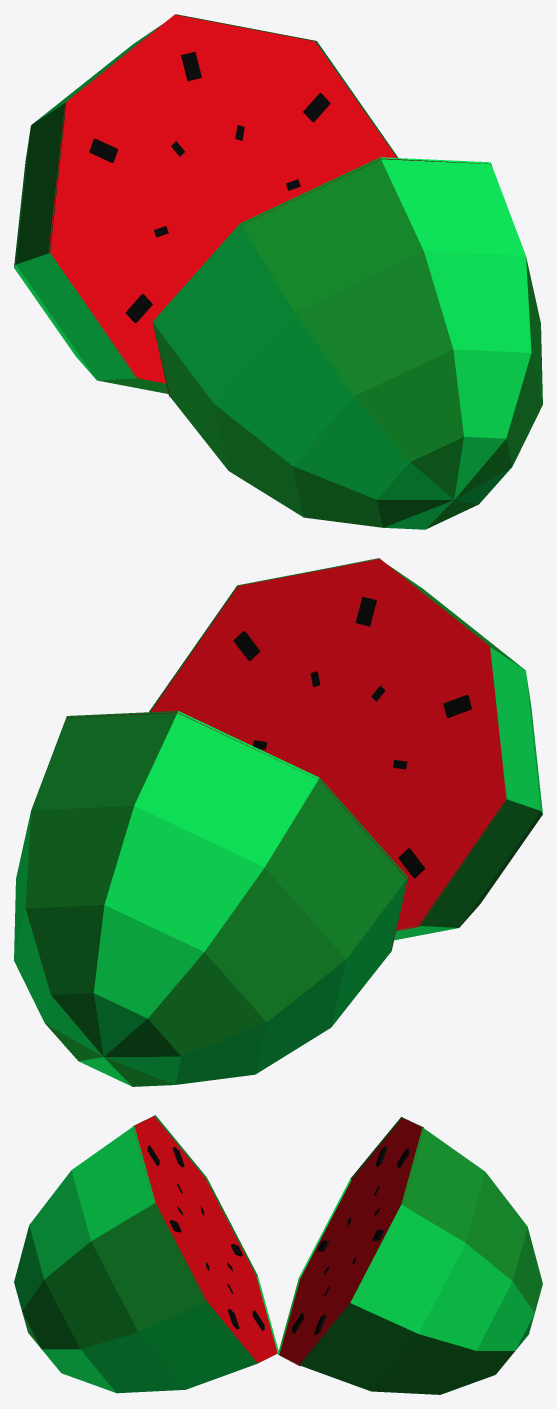
File: Watermelon_cut.glb
3 renders of one model, top to bottom at view 1: azimuth 30°, elevation 25°; view 2: azimuth 150°, elevation 25°; view 3: azimuth 270°, elevation 25°, orthographic. The views are drawn at different scales.
Visible parts, largest first — view 1: Cube.001, Cube; view 2: Cube, Cube.001; view 3: Cube, Cube.001.
Part boxes in pixels (x1,y1,x2,y2): Cube.001: [152, 157, 542, 529]; Cube: [14, 14, 398, 393]; Cube: [14, 711, 407, 1086]; Cube.001: [149, 558, 542, 940]; Cube: [278, 1117, 542, 1394]; Cube.001: [14, 1115, 278, 1393].
Bounding box in the file's own units: 2.04 × 2 × 3.65.
